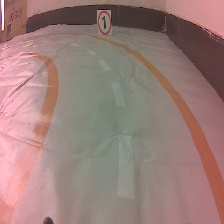limit: (95, 8, 114, 38)
